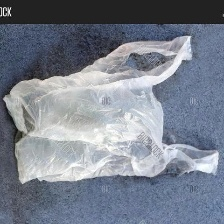plastic_bag: (1, 26, 224, 191)
